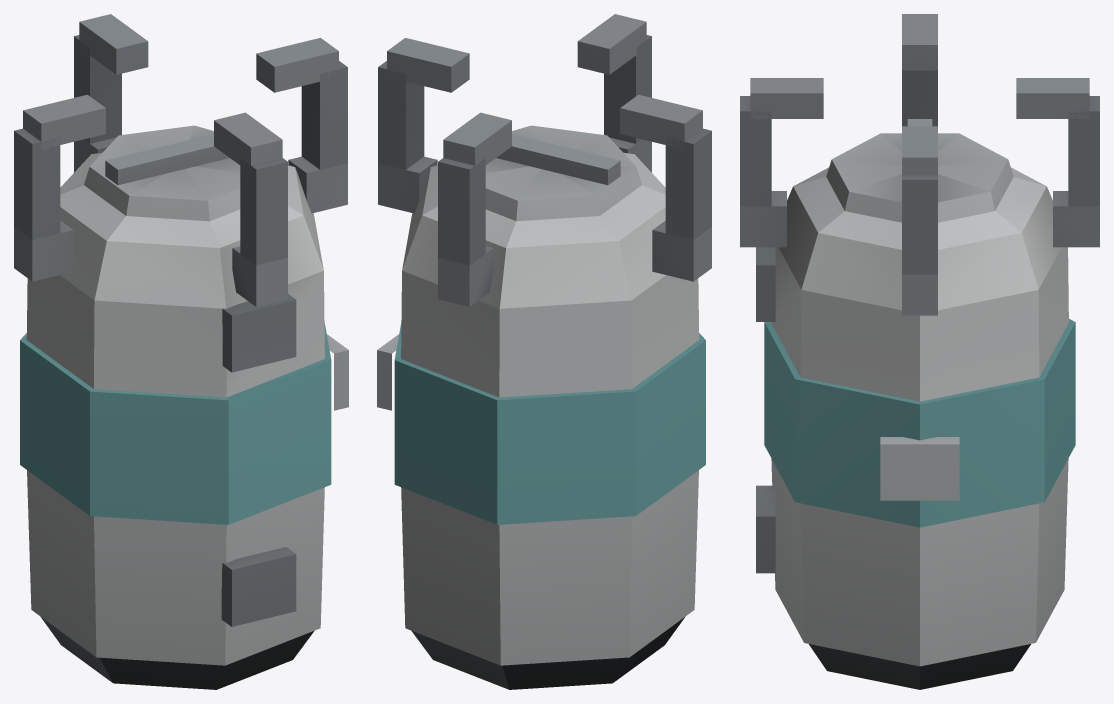
Rendered from canister.lod1.glb.
The picture shows the model from 3 angles, left to right: view 1: azimuth 30°, elevation 25°; view 2: azimuth 150°, elevation 25°; view 3: azimuth 270°, elevation 25°; orthographic projection.
Bounding box in the file's own units: 0.636 × 1.08 × 0.636.
